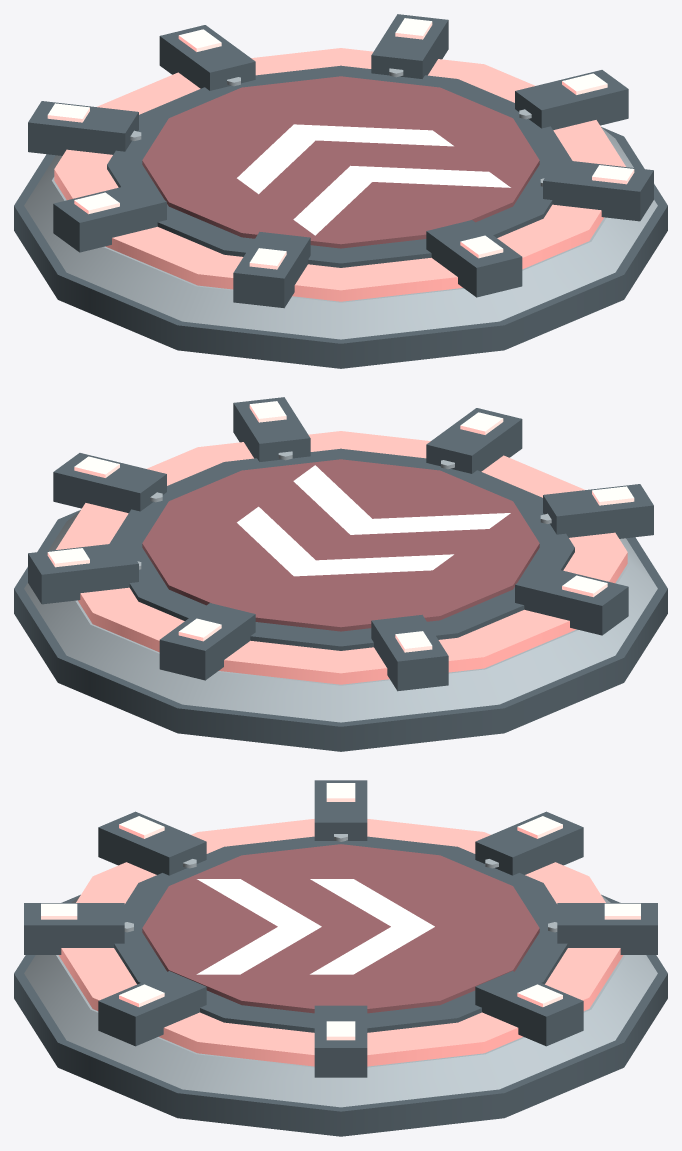
The model's file is base-red.glb.
3 renders of one model, top to bottom at view 1: azimuth 30°, elevation 25°; view 2: azimuth 150°, elevation 25°; view 3: azimuth 270°, elevation 25°, orthographic.
Parts seen in each view (by area): view 1: static:objective-carbon, static:objective-red-inset, static:objective-steel, static:objective-red, static:objective-ivory, static:objective-red-light; view 2: static:objective-carbon, static:objective-red-inset, static:objective-steel, static:objective-red, static:objective-ivory, static:objective-red-light; view 3: static:objective-carbon, static:objective-red-inset, static:objective-steel, static:objective-red, static:objective-ivory, static:objective-red-light.
Part boxes in pixels (bbox=[...]): static:objective-carbon: bbox=[14, 14, 667, 368]; static:objective-red-inset: bbox=[142, 76, 539, 248]; static:objective-steel: bbox=[24, 68, 657, 339]; static:objective-red: bbox=[54, 48, 625, 301]; static:objective-ivory: bbox=[237, 124, 510, 235]; static:objective-red-light: bbox=[47, 18, 634, 269]; static:objective-carbon: bbox=[14, 397, 667, 751]; static:objective-red-inset: bbox=[142, 459, 539, 631]; static:objective-steel: bbox=[24, 451, 657, 722]; static:objective-red: bbox=[56, 431, 627, 684]; static:objective-ivory: bbox=[237, 465, 510, 576]; static:objective-red-light: bbox=[47, 401, 634, 652]; static:objective-carbon: bbox=[14, 780, 667, 1136]; static:objective-red-inset: bbox=[142, 844, 539, 1013]; static:objective-steel: bbox=[24, 834, 657, 1107]; static:objective-red: bbox=[58, 819, 623, 1066]; static:objective-ivory: bbox=[196, 879, 434, 974]; static:objective-red-light: bbox=[41, 783, 640, 1040].
Size of the model in its own units: 1.3 by 0.1945 by 1.3.
